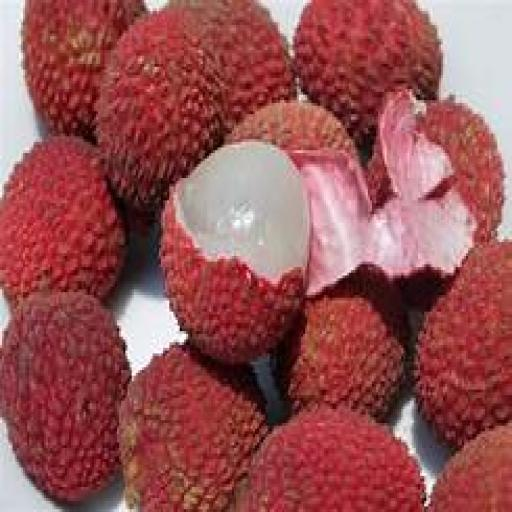lychee: (161, 142, 309, 361), (0, 293, 129, 503), (99, 9, 223, 214), (120, 346, 267, 511), (295, 0, 443, 144), (0, 137, 125, 303), (278, 270, 409, 420), (237, 407, 424, 511), (416, 243, 511, 447), (23, 0, 146, 139), (170, 0, 296, 130), (228, 101, 357, 158), (429, 423, 511, 511)
